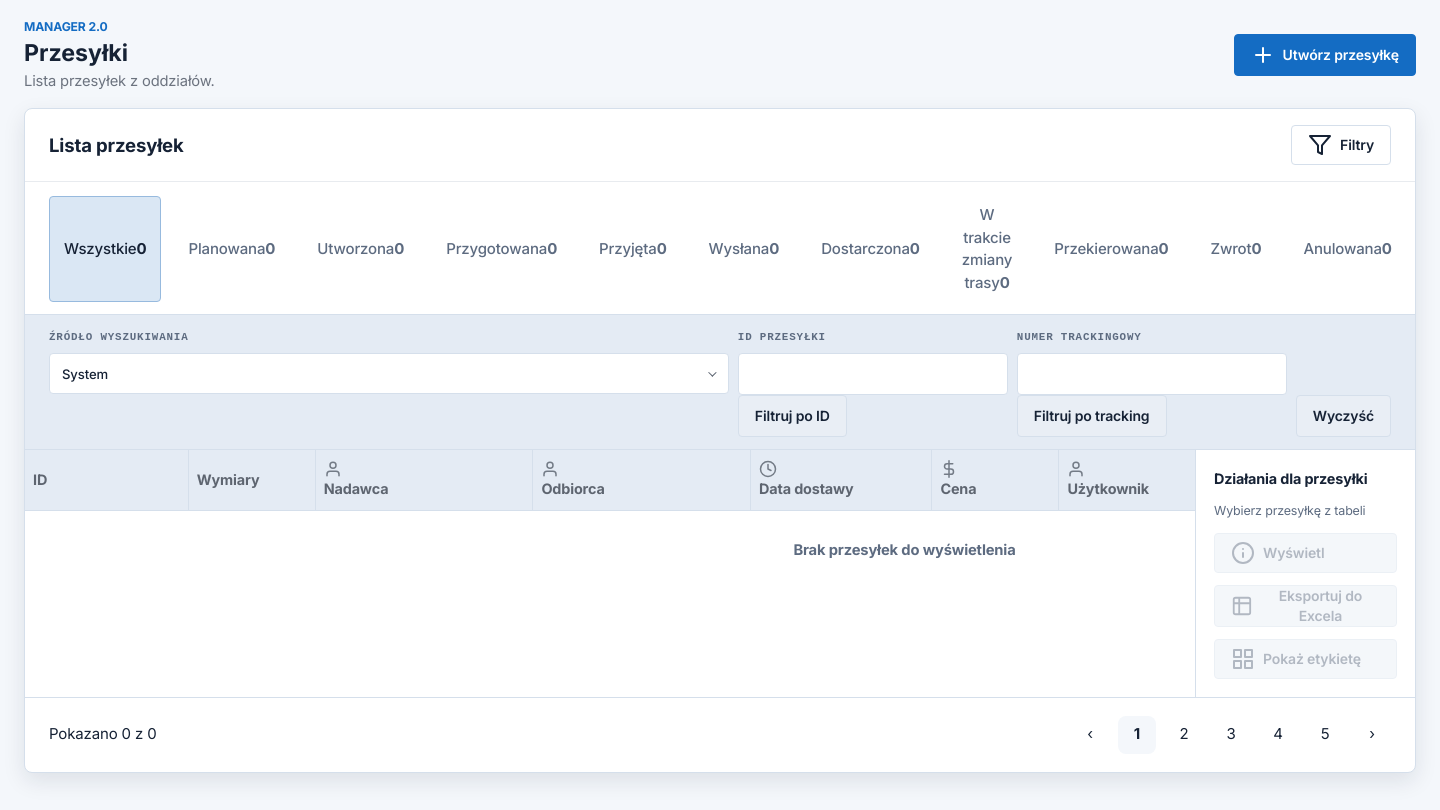
Test: external tracking search › keeps System as default and shows provider selection only for external source
Expected: the button "Utworzona0" is enabled, [302,196,419,302]
Expected: the field labelled "Dostawca" is not shown
Press the mouse on the dropdown named "Źródło wyszukiwania" at (85,374), box [50,354,728,393]
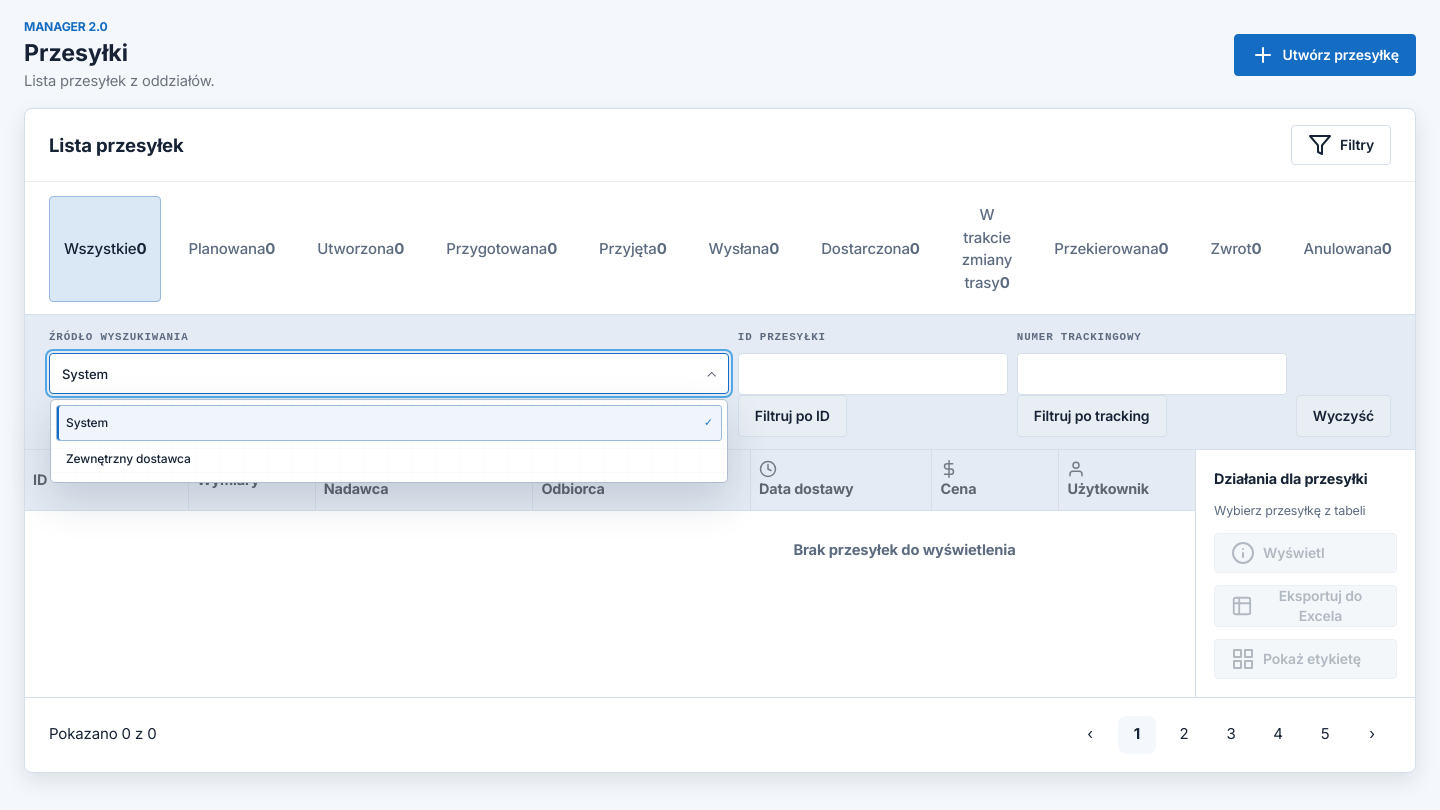
Click the option "Zewnętrzny dostawca" at (128,459), box [56,441,722,477]
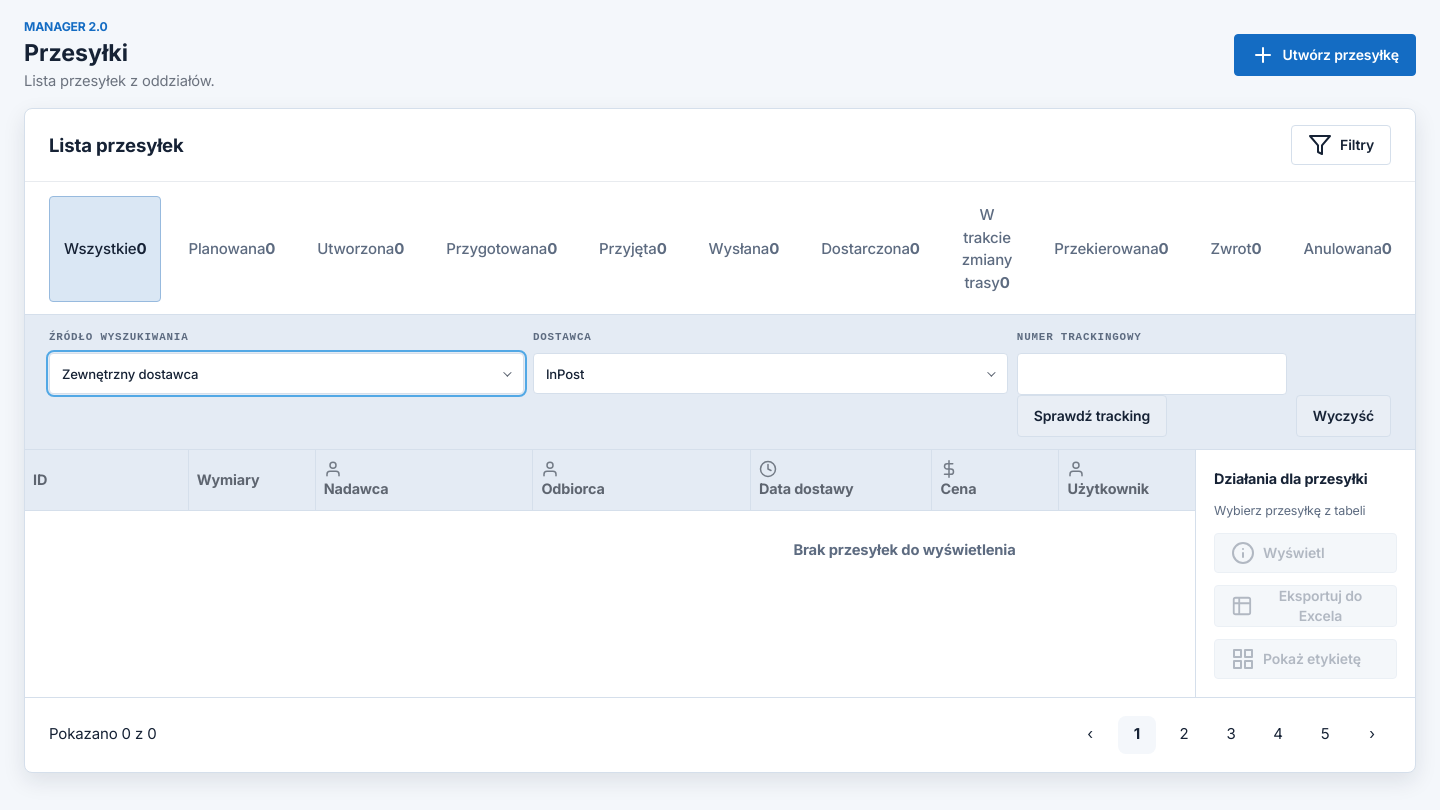
Expected: the dropdown named "Dostawca" reads "InPost", [534,354,1007,393]
